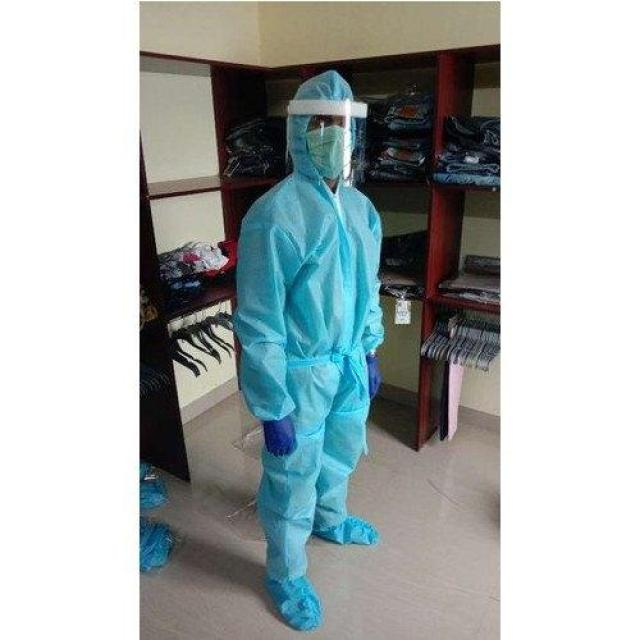Coverall: (234, 63, 398, 630)
Gloves: (261, 416, 298, 458)
Mask: (302, 124, 356, 181)
